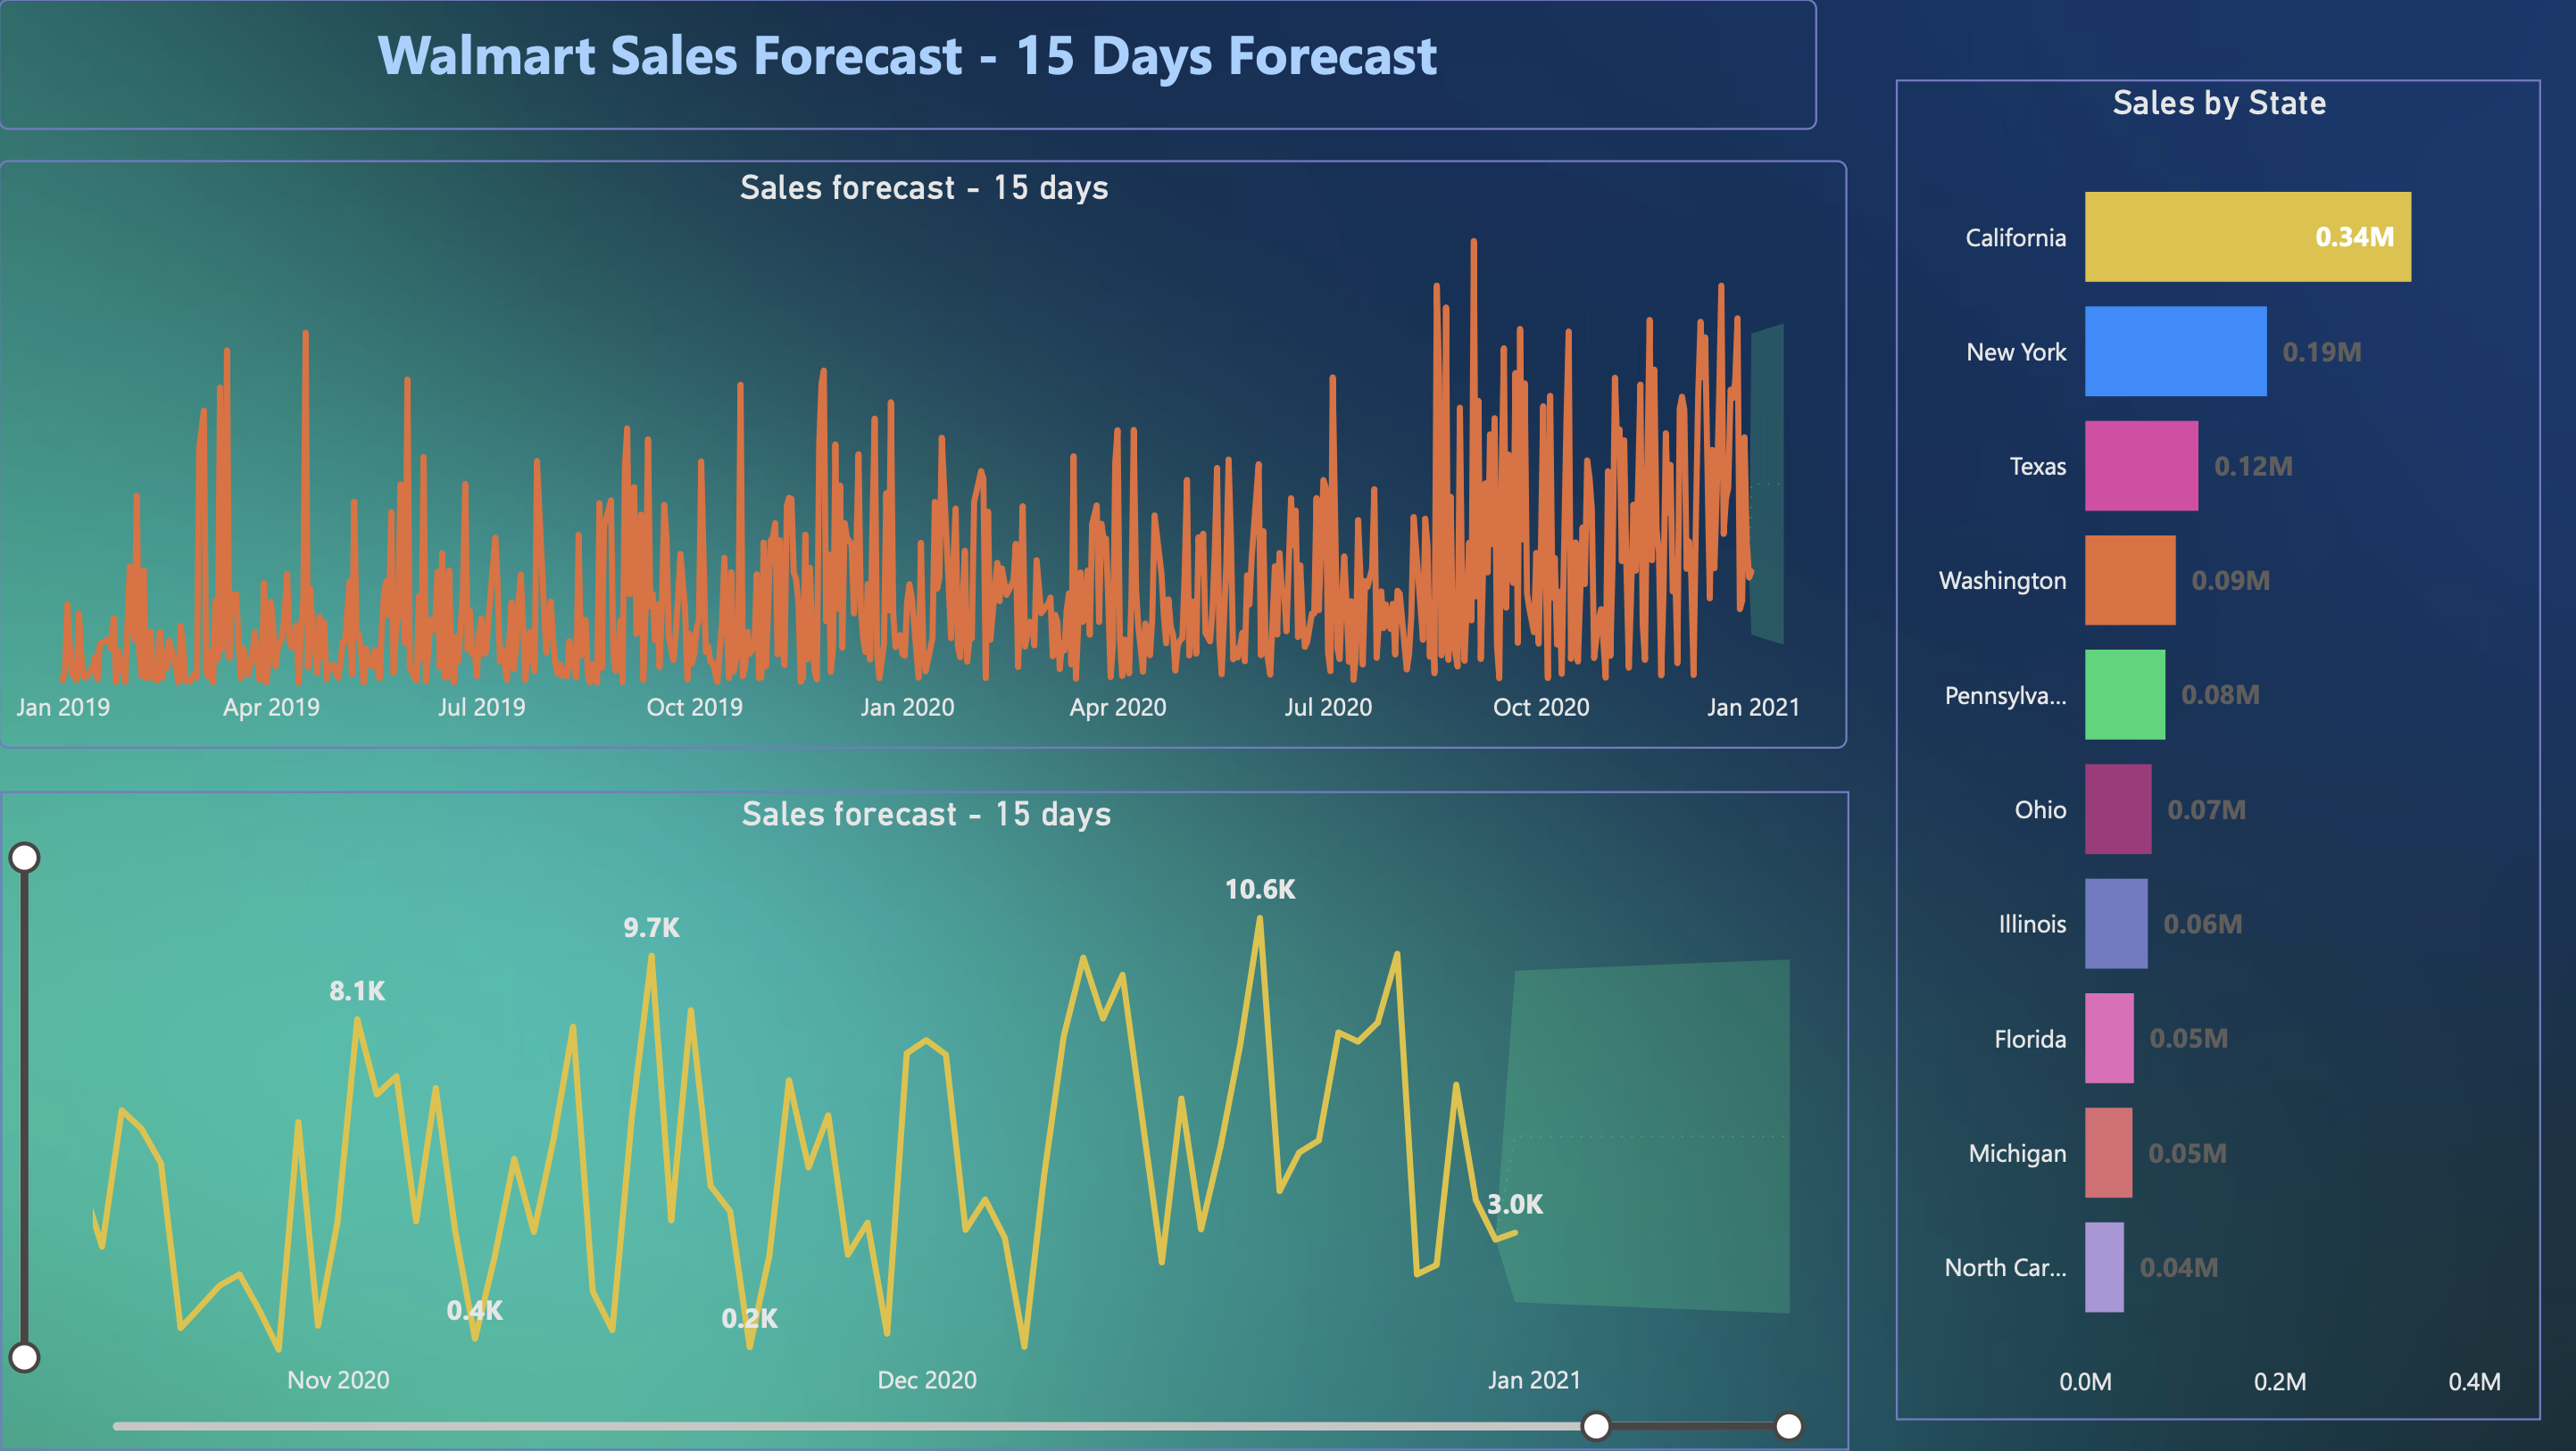

The page's visual inventory and layout, read from the dashboard file:
{"tool":"powerbi","page":{"name":"Sales Forecast","canvas":[1280,720],"ordinal":1},"visuals":[{"type":"lineChart","title":"Sales forecast - 15 days","fields":{"Y":["Sum(SuperStore_Sales_Dataset.Sales)"],"Category":["SuperStore_Sales_Dataset.Order Date"]},"box":[0,80,917.4,292.5],"z":0},{"type":"lineChart","title":"Sales forecast - 15 days","fields":{"Y":["Sum(SuperStore_Sales_Dataset.Sales)"],"Category":["SuperStore_Sales_Dataset.Order Date"]},"box":[1.4,393.2,917.4,327],"z":1000},{"type":"clusteredBarChart","title":"Sales by State","fields":{"Y":["Sum(SuperStore_Sales_Dataset.Sales)"],"Category":["SuperStore_Sales_Dataset.State"]},"box":[940.9,40,320.1,665],"z":2000},{"type":"textbox","box":[0,0,902.3,64.8],"z":3000}]}

Visuals, with their boxes in screenshot pixels (x1, y1, x2, y2), scaled from the page's 1280x720 canvas onto the 2576x1451 screenshot:
"Sales forecast - 15 days" lineChart: (0,162,1846,750)
"Sales forecast - 15 days" lineChart: (3,792,1849,1450)
"Sales by State" clusteredBarChart: (1893,80,2538,1421)
textbox: (0,0,1816,130)
